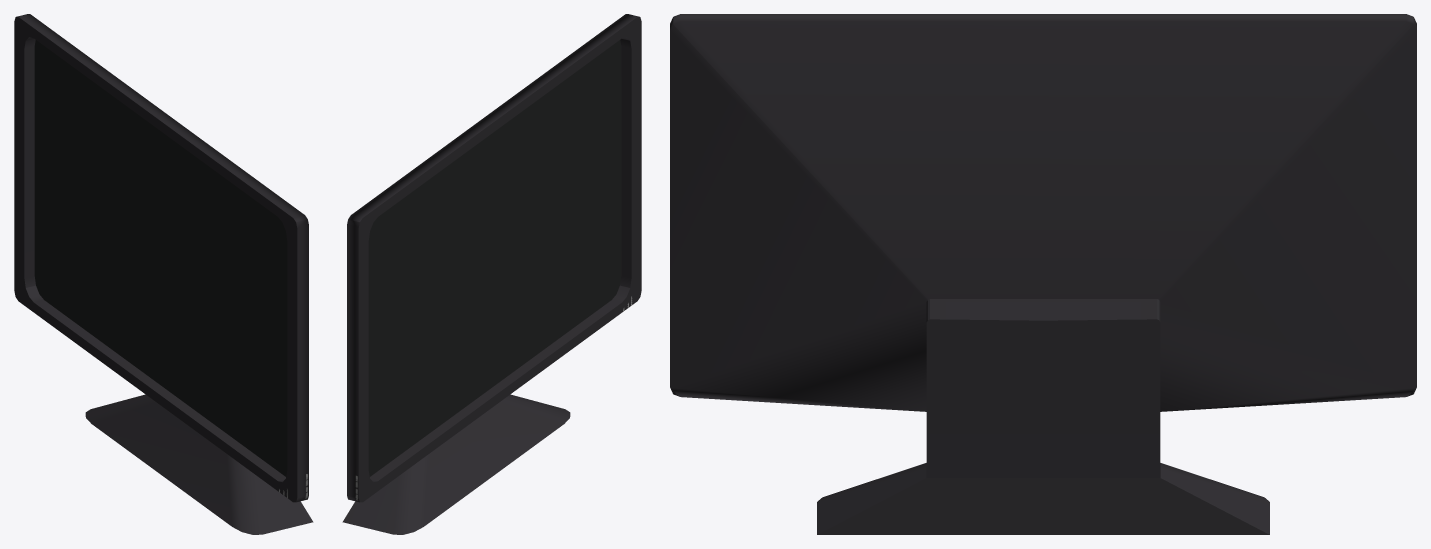
The picture shows the model from 3 angles, left to right: view 1: azimuth 30°, elevation 25°; view 2: azimuth 150°, elevation 25°; view 3: azimuth 270°, elevation 25°; orthographic projection. The views are drawn at different scales.
Parts seen in each view (by area): view 1: TV; view 2: TV; view 3: TV.
Boxes of the visible parts, x1,y1,x2,y2 form: TV: (14, 14, 313, 534); TV: (342, 14, 641, 534); TV: (670, 14, 1416, 534).
Size of the model in its own units: 35.44 by 169 by 241.
